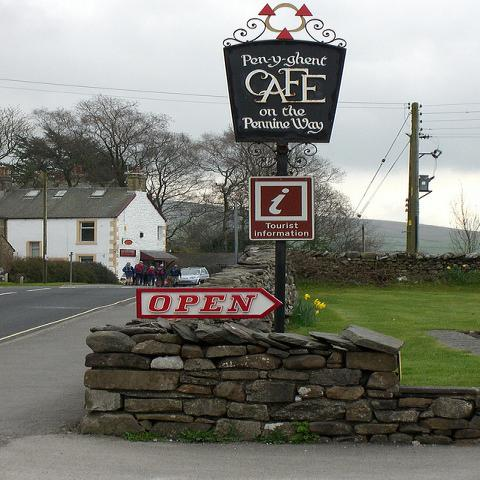car: (178, 267, 209, 287)
